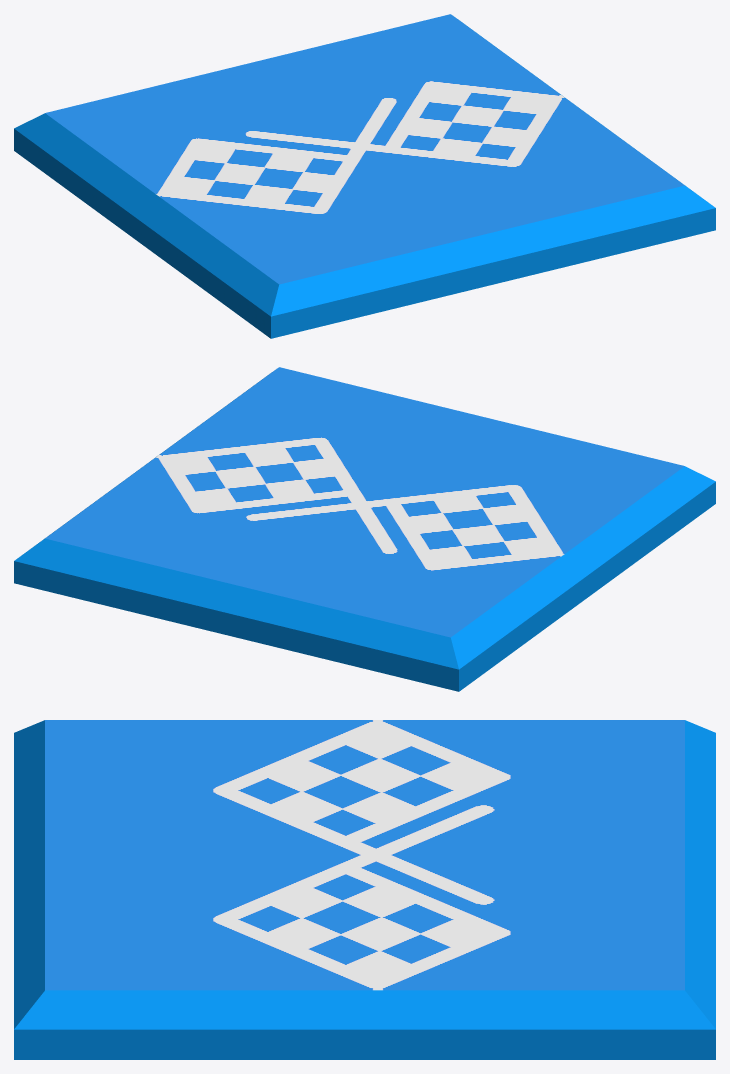
File: Tile_start.fbx
The picture shows the model from 3 angles, top to bottom: view 1: azimuth 30°, elevation 25°; view 2: azimuth 150°, elevation 25°; view 3: azimuth 270°, elevation 25°; orthographic projection. The views are drawn at different scales.
Visible parts, largest first — view 1: Cube.001; view 2: Cube.001; view 3: Cube.001.
Part boxes in pixels (x1,y1,x2,y2): Cube.001: [14, 14, 715, 338]; Cube.001: [14, 367, 715, 691]; Cube.001: [14, 720, 715, 1059].
Bounding box in the file's own units: 200 × 17.71 × 200.
2 materials, 1 textured.
